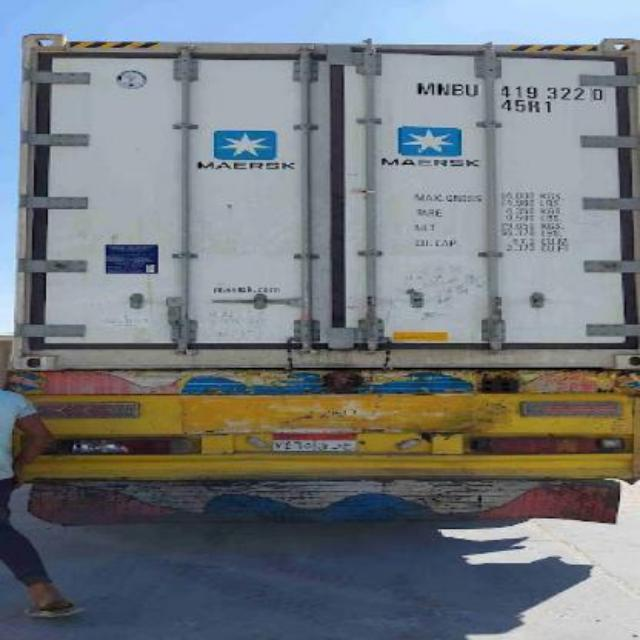0: (590, 84, 608, 104)
1: (512, 84, 528, 102)
2: (556, 82, 574, 104), (570, 84, 588, 106)
3: (540, 84, 560, 104)
4: (492, 81, 510, 99)
9: (522, 81, 544, 102)
B: (448, 80, 464, 102)
M: (408, 75, 429, 99)
N: (431, 76, 452, 104)
U: (462, 78, 480, 104)
